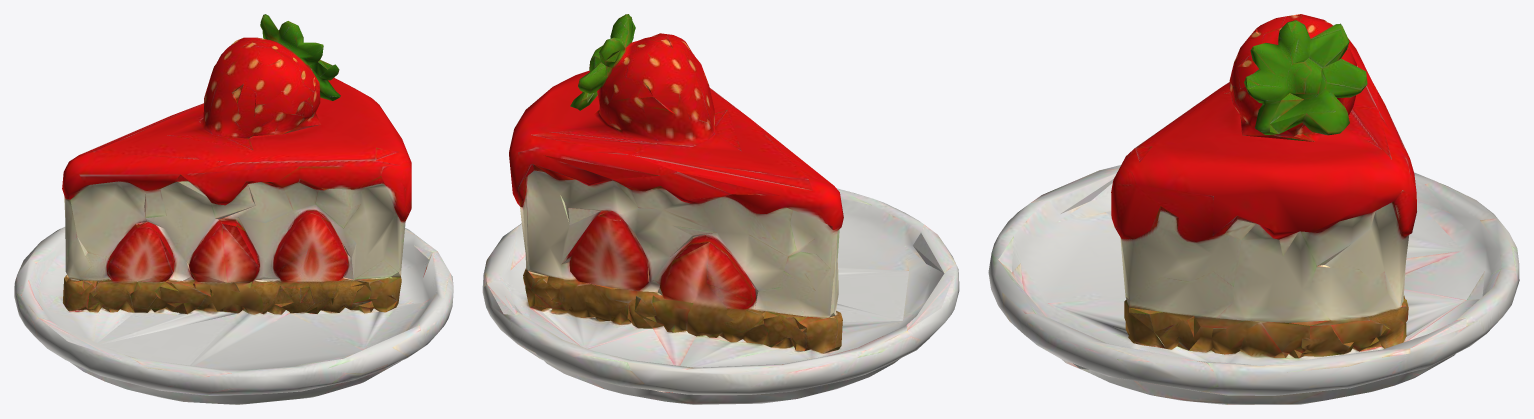
File: cheesecake.gltf
The picture shows the model from 3 angles, left to right: view 1: azimuth 30°, elevation 25°; view 2: azimuth 150°, elevation 25°; view 3: azimuth 270°, elevation 25°; orthographic projection. The views are drawn at different scales.
Parts seen in each view (by area): view 1: cheesecake; view 2: cheesecake; view 3: cheesecake.
Part boxes in pixels (box(x1,y1,x2,y2)): cheesecake: box(14, 14, 453, 404); cheesecake: box(482, 14, 959, 404); cheesecake: box(988, 14, 1519, 404).
Bounding box in the file's own units: 0.9981 × 0.7 × 0.9965.
1 material, 1 textured.
